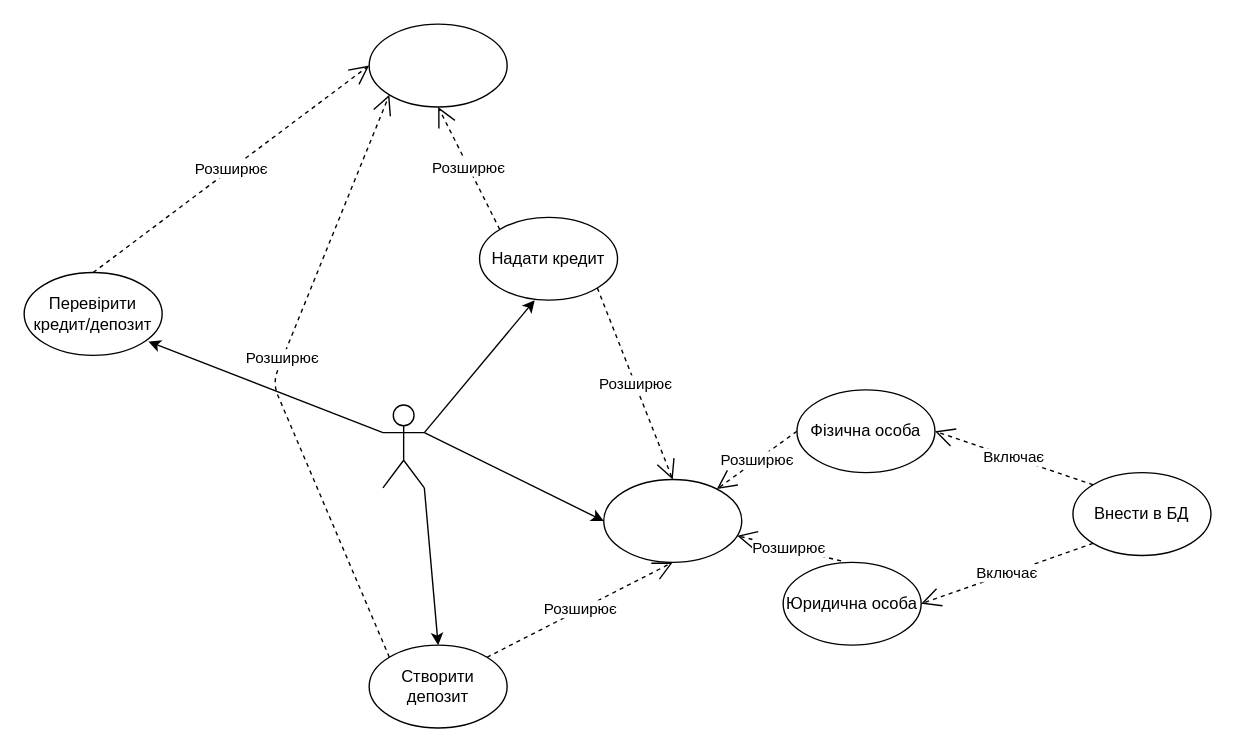
Image size: 1235x752. Some labels were removed from this diagram. Each missing label, with the box of its shape:
Зареєструвати особу: (602, 478, 742, 562)
Користувач: (382, 404, 424, 488)
Список клієнтів: (368, 23, 507, 107)
